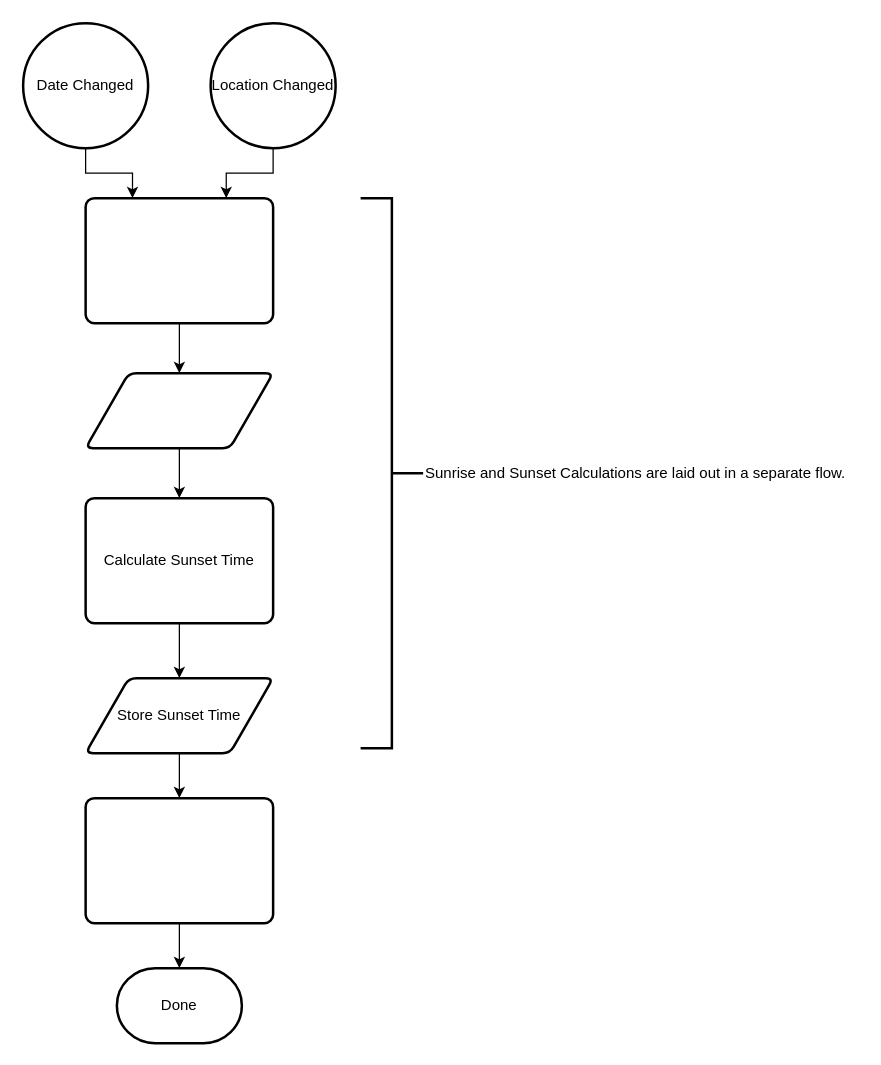
Some shapes in this 881 by 1065 pixel diagram are drawn without their labels. Here are the shapes that lost their labels. From the top down, the centre of each, then its label:
At point (179, 260): "Calculate Sunrise Time".
At point (179, 410): "Store Sunrise Time".
At point (179, 860): "Publish 'Sun Events Changed'".
